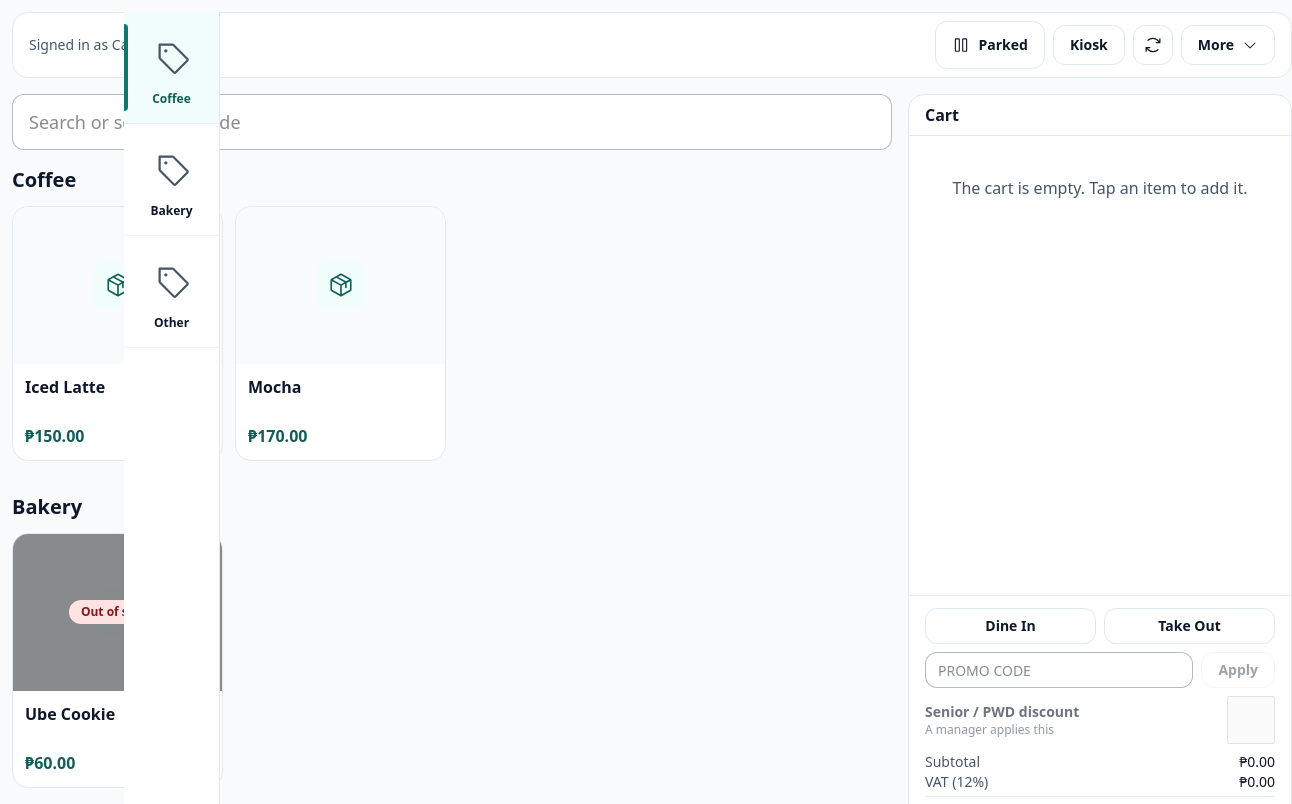
Scenario: SellPage catalog › narrows every category at once when searching, dimming the tiles that have nothing left
Expected: the button "Iced Latte ₱150.00" is shown, [12, 206, 223, 461]
Type "moc" into the search field named "Search items or scan a barcode" at (452, 122), box [12, 94, 892, 150]
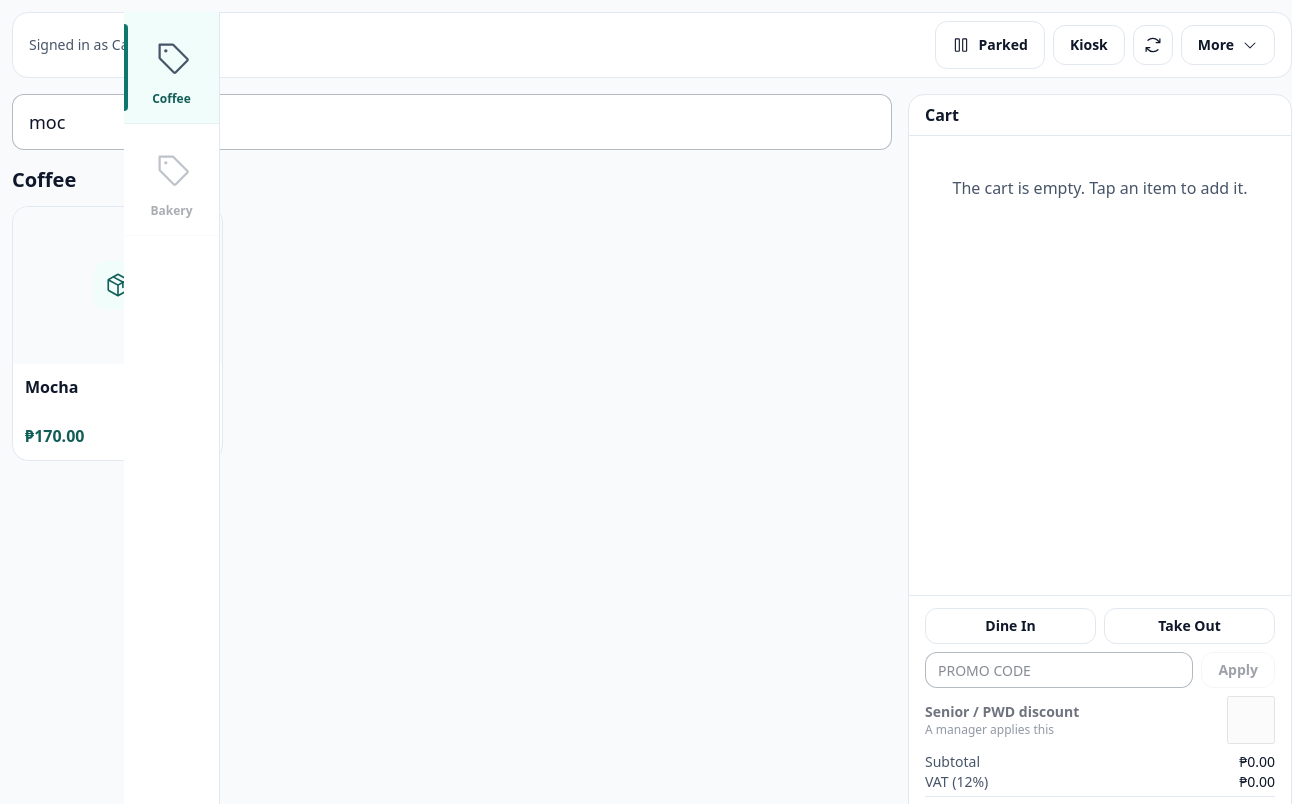
Now the number of buttons "Mocha ₱170.00" is 1, box [12, 206, 223, 461]
Clear the search field named "Search items or scan a barcode" at (452, 122), box [12, 94, 892, 150]
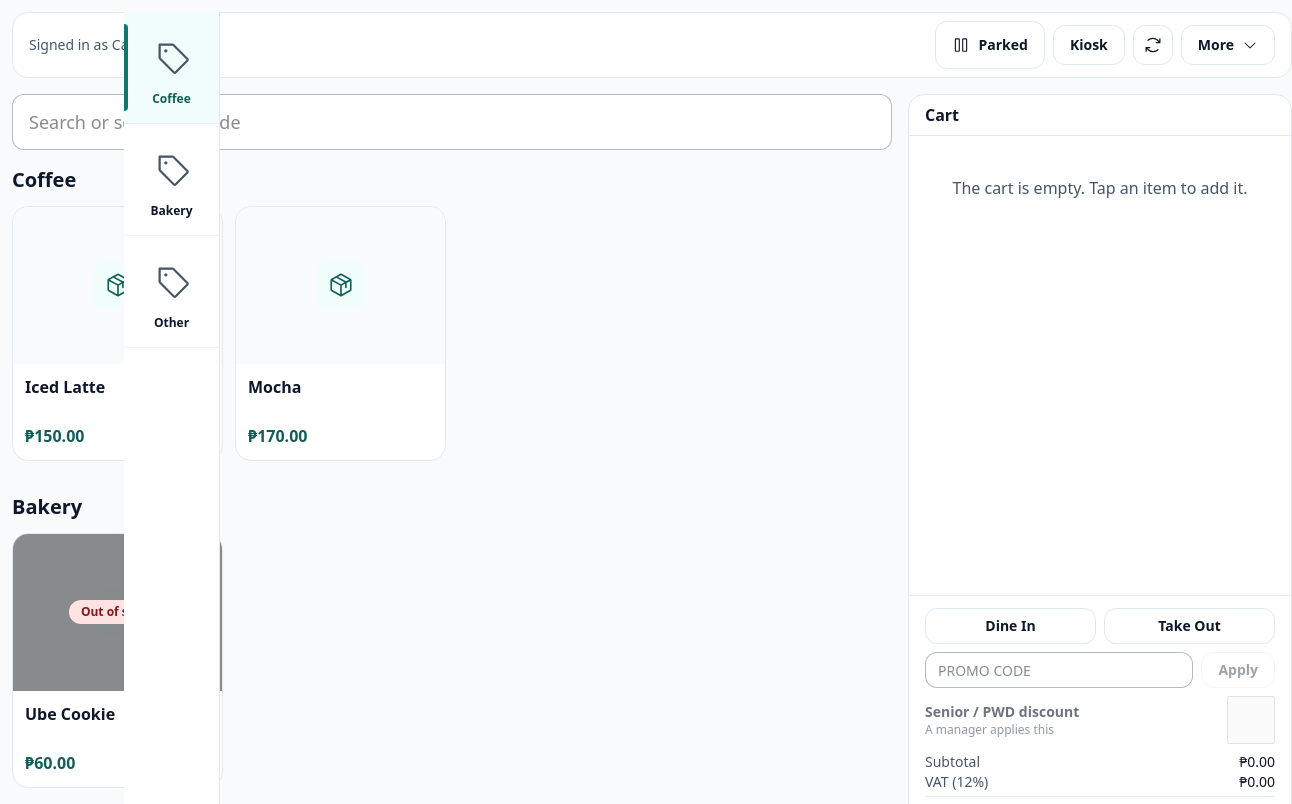
Now the button "Out of stock Ube Cookie ₱60.00" is shown, box [12, 533, 223, 788]
